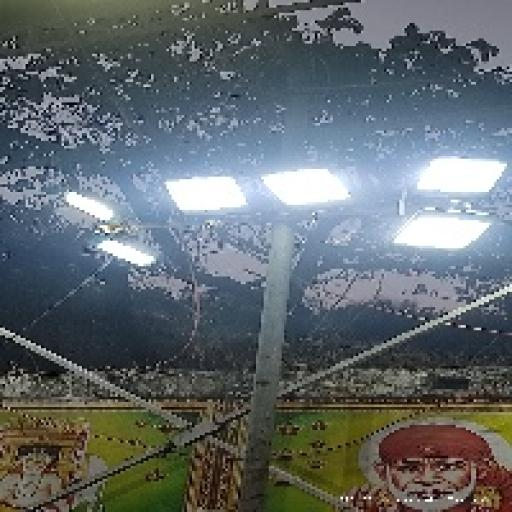Working: (396, 142, 512, 204), (385, 204, 497, 264), (158, 165, 252, 225), (254, 161, 360, 213), (58, 184, 134, 233), (86, 231, 162, 274)
